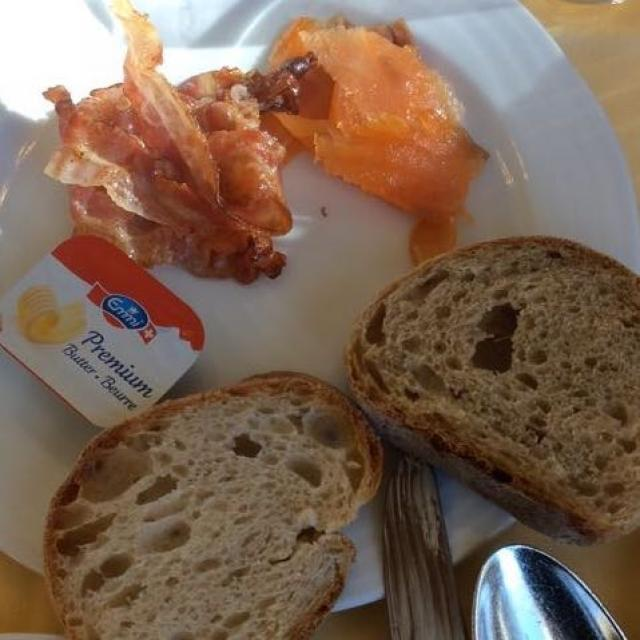bacon: (38, 21, 298, 286)
bread: (50, 238, 635, 632)
salmon: (272, 22, 480, 251)
